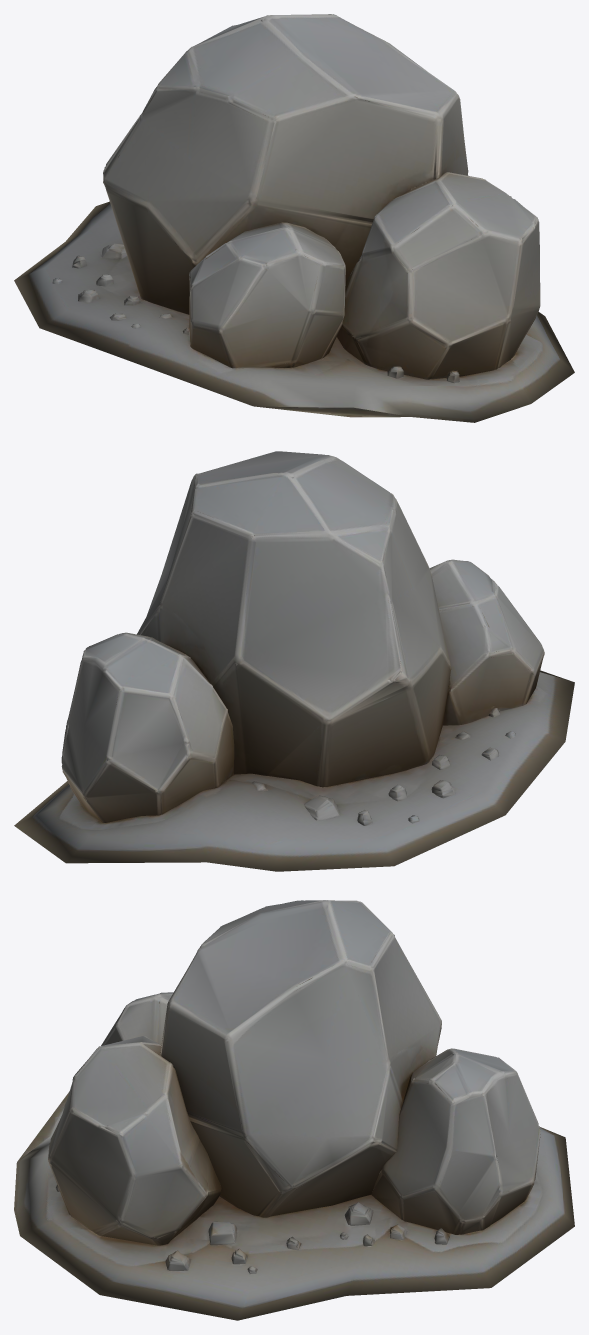
3 renders of one model, top to bottom at view 1: azimuth 30°, elevation 25°; view 2: azimuth 150°, elevation 25°; view 3: azimuth 270°, elevation 25°, orthographic. The views are drawn at different scales.
Visible parts, largest first — view 1: tripo_node_a35f769e-97bb-4bf7-a898-415df063e99a; view 2: tripo_node_a35f769e-97bb-4bf7-a898-415df063e99a; view 3: tripo_node_a35f769e-97bb-4bf7-a898-415df063e99a.
Part boxes in pixels (x1=…): tripo_node_a35f769e-97bb-4bf7-a898-415df063e99a: x1=14, y1=14, x2=574, y2=422; tripo_node_a35f769e-97bb-4bf7-a898-415df063e99a: x1=14, y1=451, x2=574, y2=871; tripo_node_a35f769e-97bb-4bf7-a898-415df063e99a: x1=14, y1=900, x2=574, y2=1320.
Bounding box in the file's own units: 0.4392 × 0.3 × 0.4918.
1 material, 1 textured.
